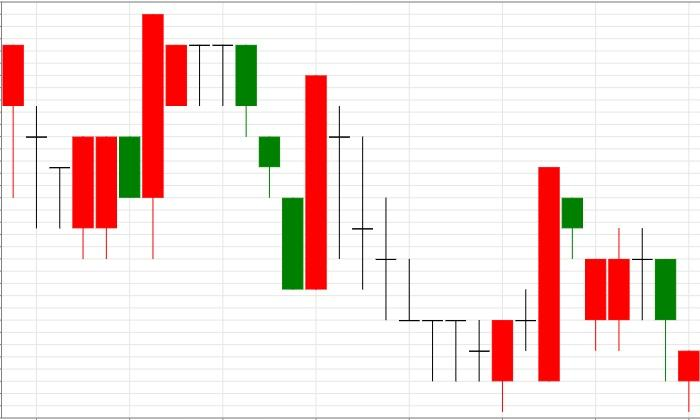bullish_engulfing_rise: (142, 13, 328, 291)
